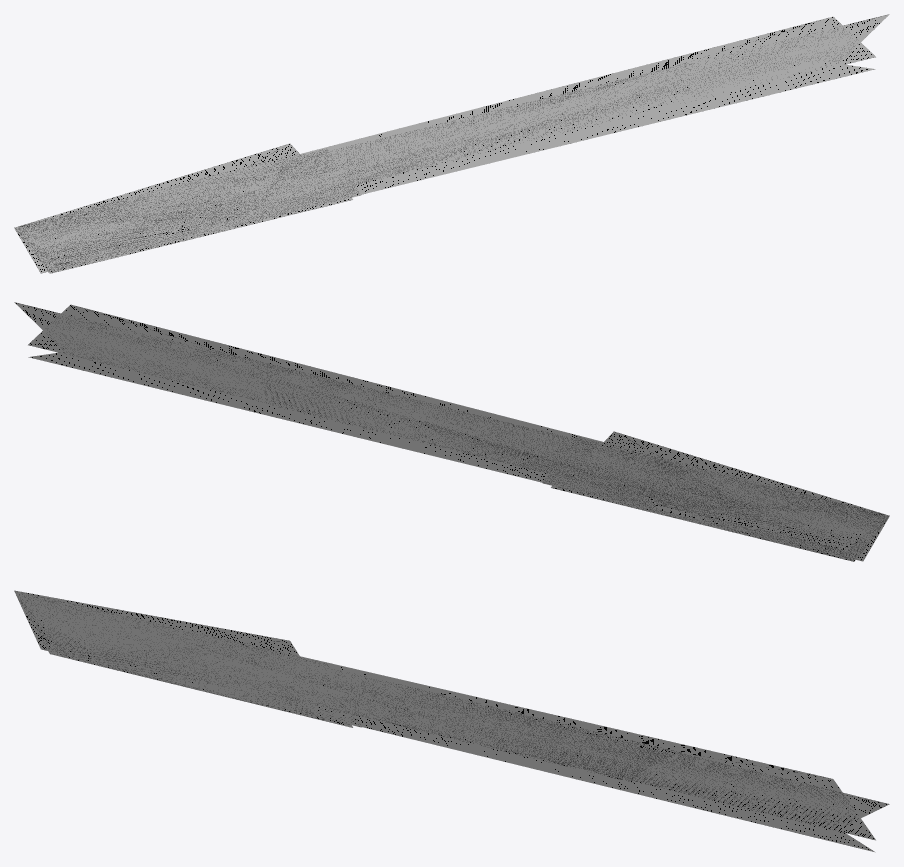
The model's file is 1092item563.gltf.
The picture shows the model from 3 angles, top to bottom: view 1: azimuth 30°, elevation 25°; view 2: azimuth 150°, elevation 25°; view 3: azimuth 330°, elevation 25°; orthographic projection.
Visible parts, largest first — view 1: 1092item563; view 2: 1092item563; view 3: 1092item563.
Boxes of the visible parts, box(x1,y1,x2,y2) form: 1092item563: box(14, 14, 889, 273); 1092item563: box(14, 302, 889, 561); 1092item563: box(14, 590, 889, 852).
Bounding box in the file's own units: 0.7095 × 0.0557 × 0.
Materials: 1 (1 with a texture image).
